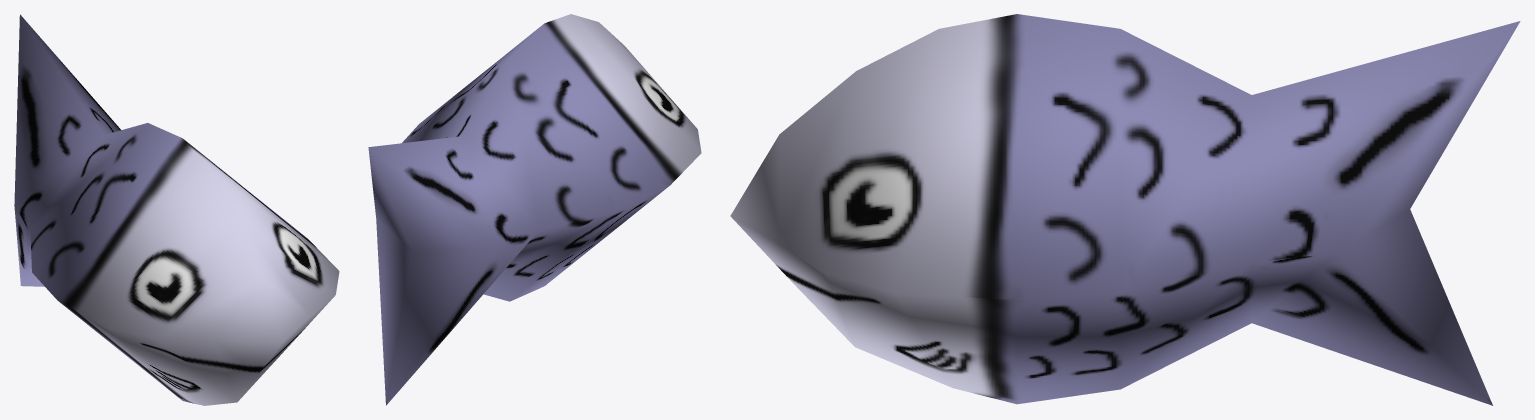
File: Fish.fbx
The picture shows the model from 3 angles, left to right: view 1: azimuth 30°, elevation 25°; view 2: azimuth 150°, elevation 25°; view 3: azimuth 270°, elevation 25°; orthographic projection. The views are drawn at different scales.
Parts seen in each view (by area): view 1: Fish; view 2: Fish; view 3: Fish.
Part boxes in pixels (x1,y1,x2,y2): Fish: [14, 14, 339, 405]; Fish: [368, 14, 701, 405]; Fish: [730, 14, 1520, 405].
Bounding box in the file's own units: 47.35 × 47.7 × 86.91.
1 material, 1 textured.
